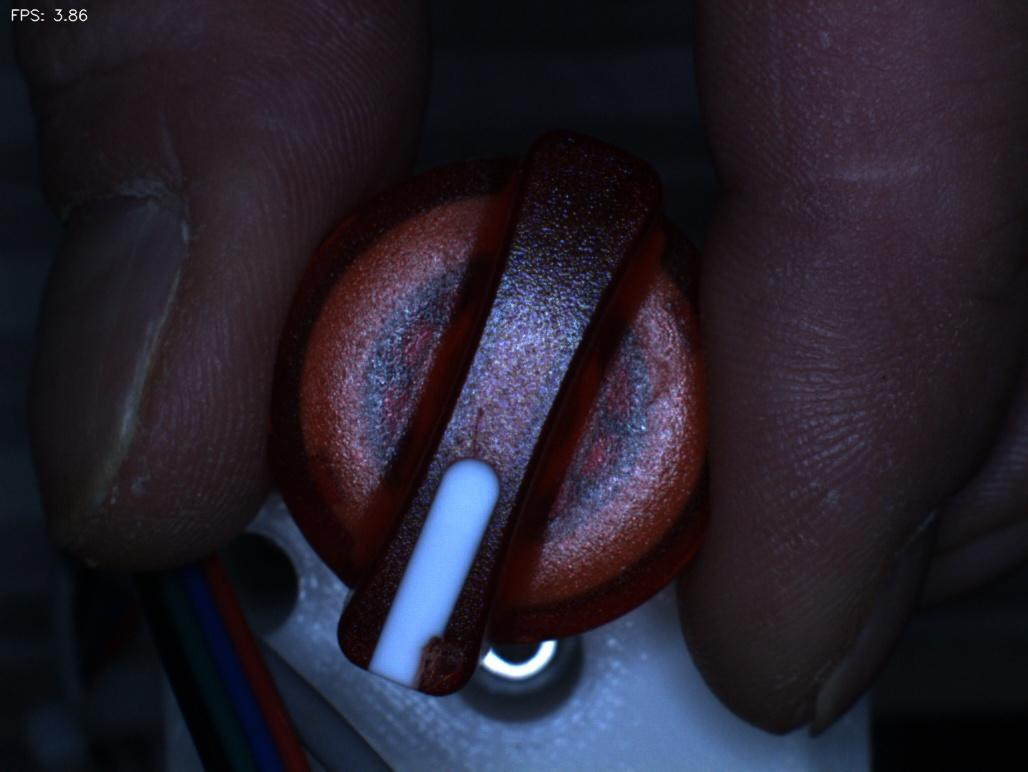Choc: (395, 615, 494, 704)
